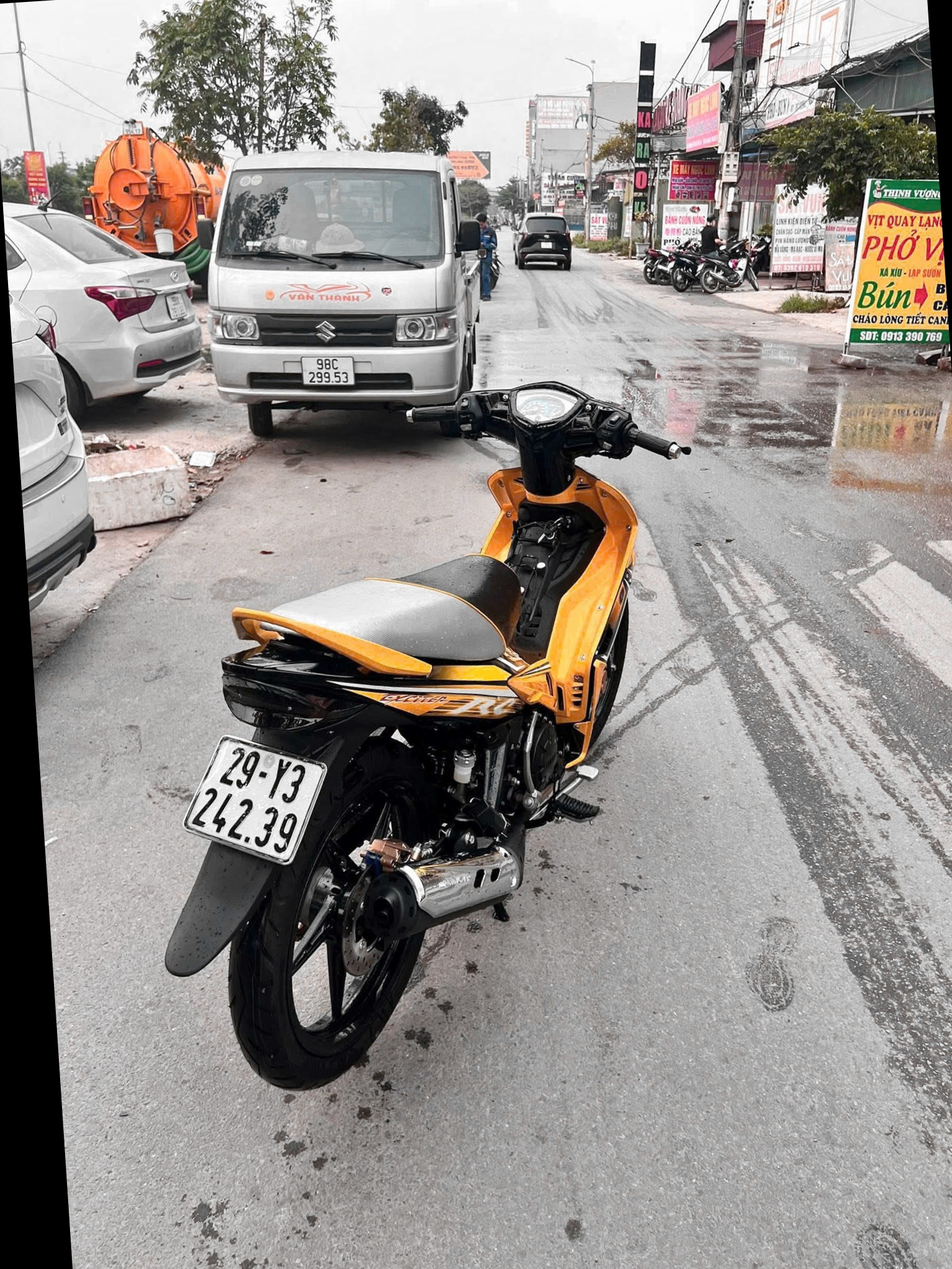Bien-so: (176, 732, 330, 868)
